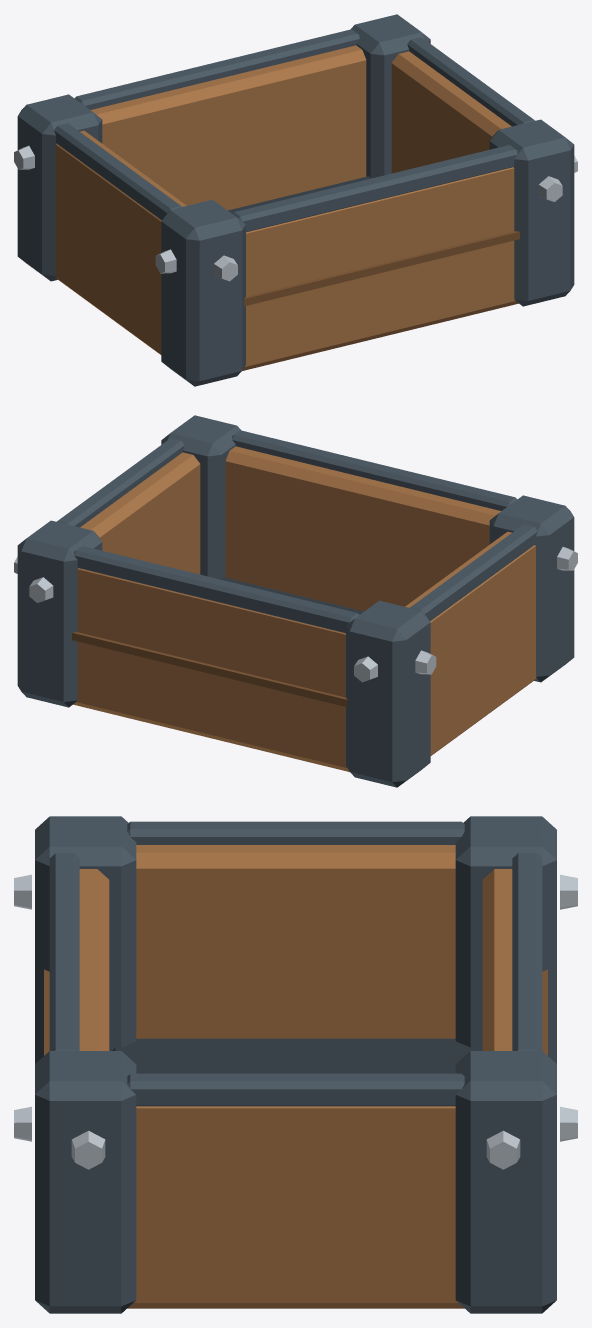
The model's file is Station_InputTray.fbx.
The picture shows the model from 3 angles, top to bottom: view 1: azimuth 30°, elevation 25°; view 2: azimuth 150°, elevation 25°; view 3: azimuth 270°, elevation 25°; orthographic projection. The views are drawn at different scales.
Parts seen in each view (by area): view 1: Wood, Frame, WoodDark, SteelLight, FrameDark; view 2: Wood, Frame, WoodDark, SteelLight, FrameDark; view 3: Wood, Frame, FrameDark, SteelLight, WoodDark.
Part boxes in pixels (x1,y1,x2,y2): Wood: [55, 45, 518, 370]; Frame: [17, 14, 574, 386]; WoodDark: [244, 231, 519, 306]; SteelLight: [14, 146, 577, 281]; FrameDark: [228, 176, 372, 213]; Wood: [73, 446, 536, 771]; Frame: [17, 415, 574, 787]; WoodDark: [72, 632, 347, 707]; SteelLight: [14, 547, 577, 682]; FrameDark: [219, 577, 363, 614]; Wood: [79, 845, 512, 1308]; Frame: [35, 816, 556, 1313]; FrameDark: [112, 1038, 479, 1073]; SteelLight: [14, 874, 577, 1169]; WoodDark: [44, 969, 547, 1055].
Bounding box in the file's own units: 2.34 × 0.86 × 1.89.
